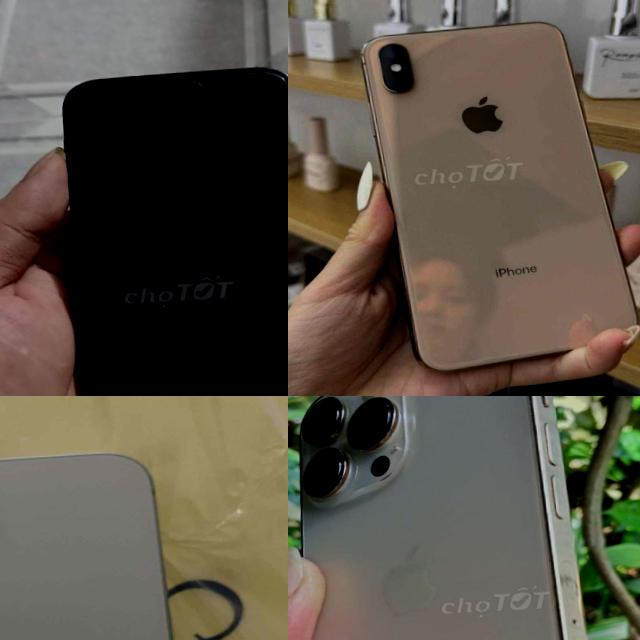gen_12_13: (288, 396, 630, 640), (60, 62, 288, 396)
gen_15: (0, 441, 219, 640)
gen_x_xs: (359, 12, 640, 379)
